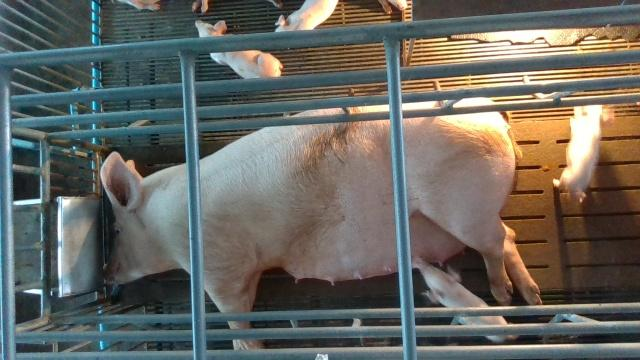piglet: (415, 260, 519, 343), (554, 104, 613, 202), (194, 20, 282, 81), (275, 0, 339, 34)
sow-sleep-lactate: (100, 95, 545, 351)
